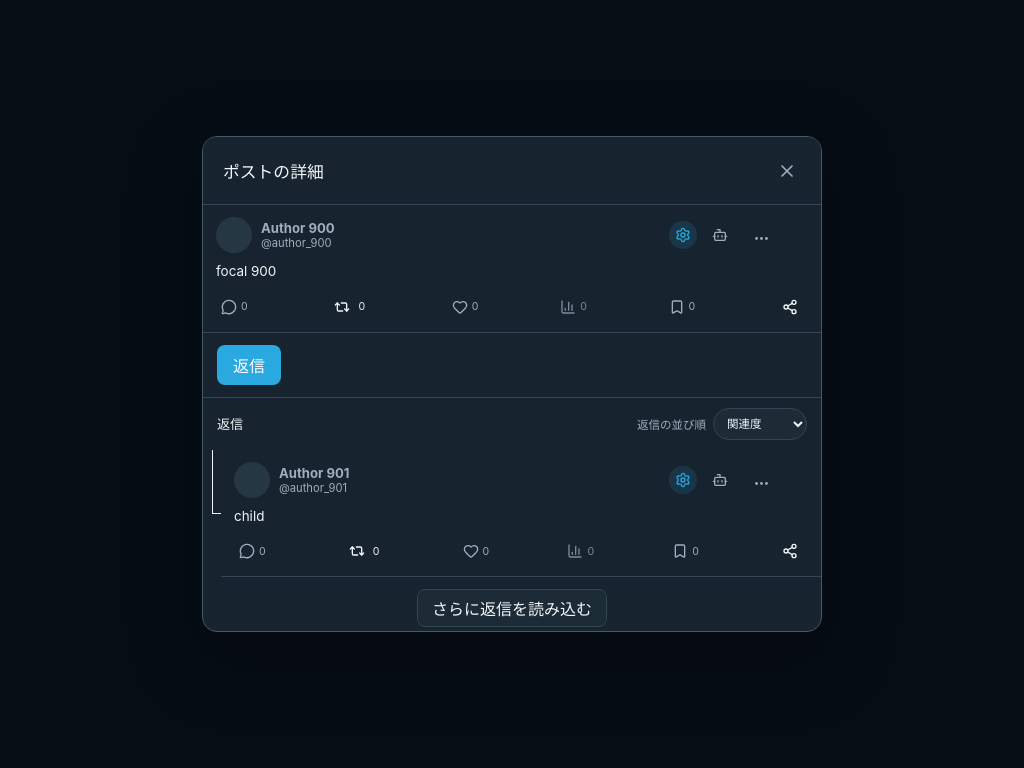
Test case: resumes an unfinished reply page after navigating away and Back
Check: the text "child" is shown, box 234,508 -> 264,524
Click the button "さらに返信を読み込む": point(512, 608) 417,589 -> 607,627
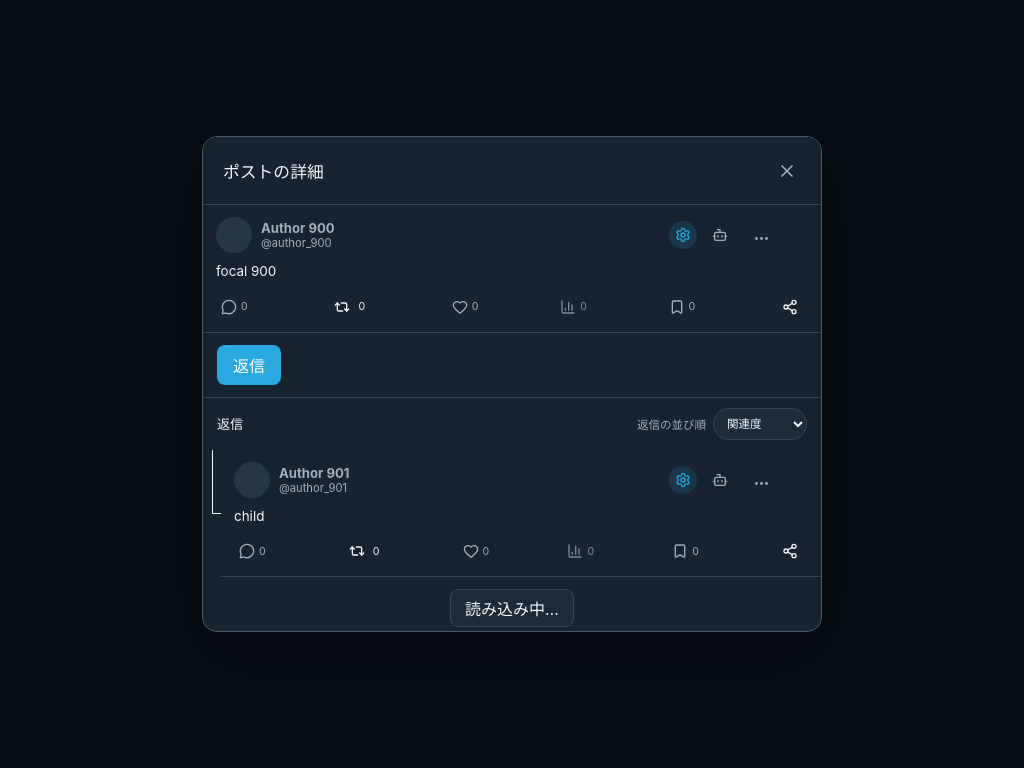
Click the text "child": point(249, 516) 234,508 -> 264,524
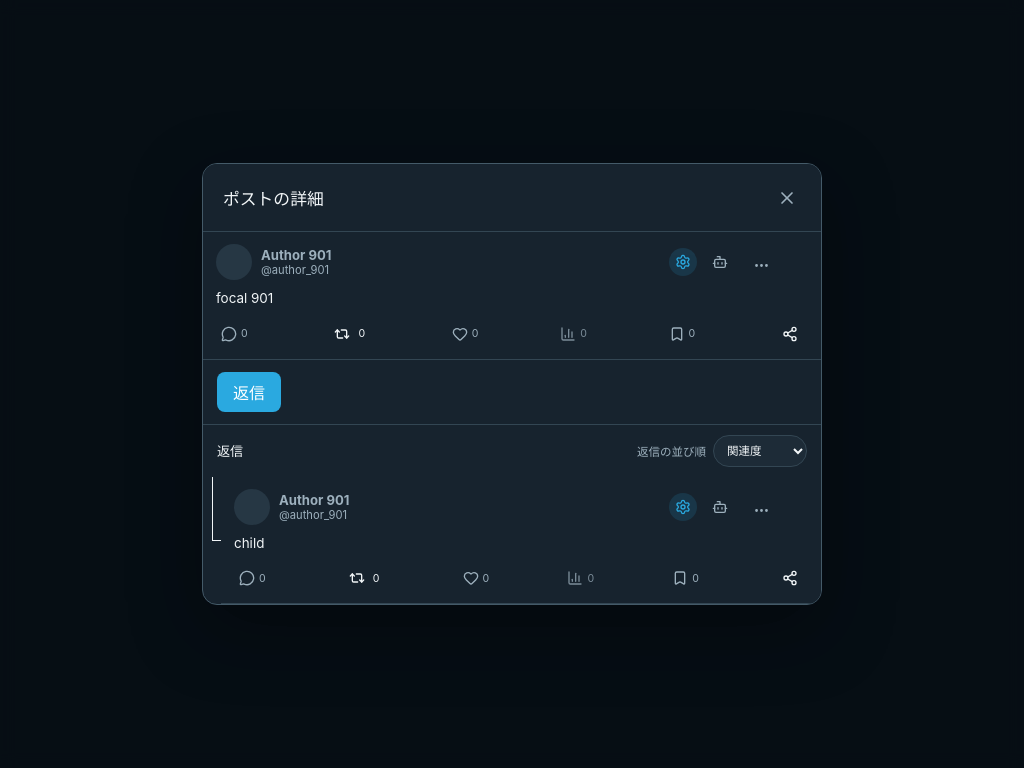
Check: the text "focal 901" is shown, box 216,290 -> 273,306
Press Escape
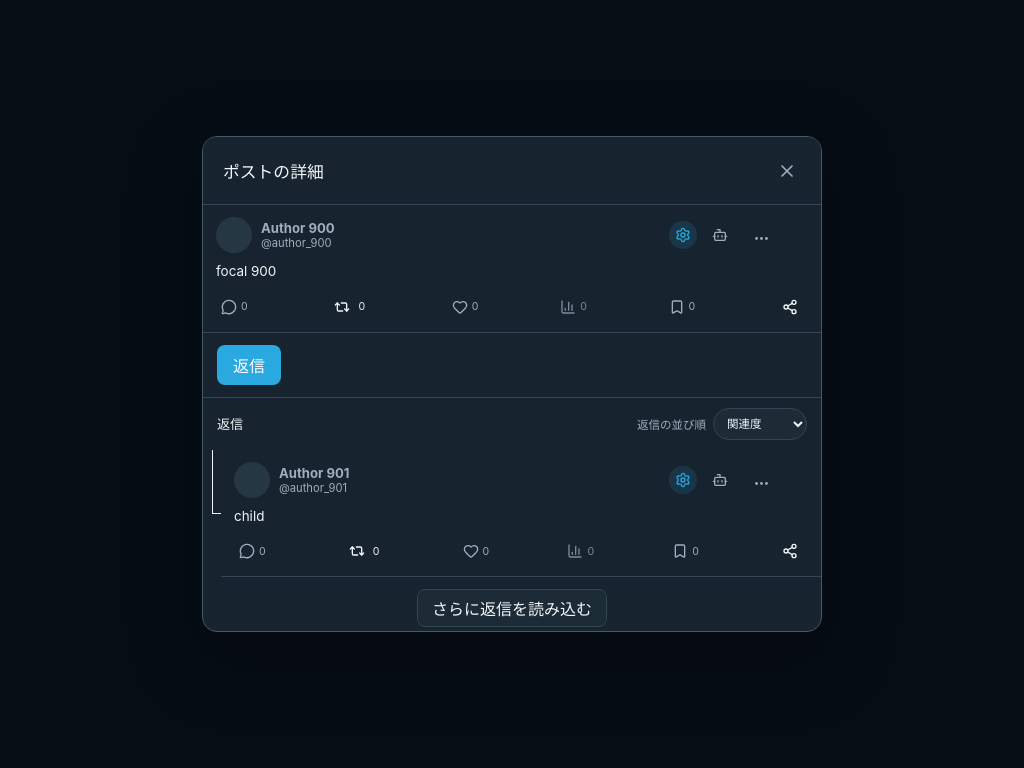
Check: the text "focal 900" is shown, box 216,263 -> 276,279
Click the button "さらに返信を読み込む": point(512, 608) 417,589 -> 607,627
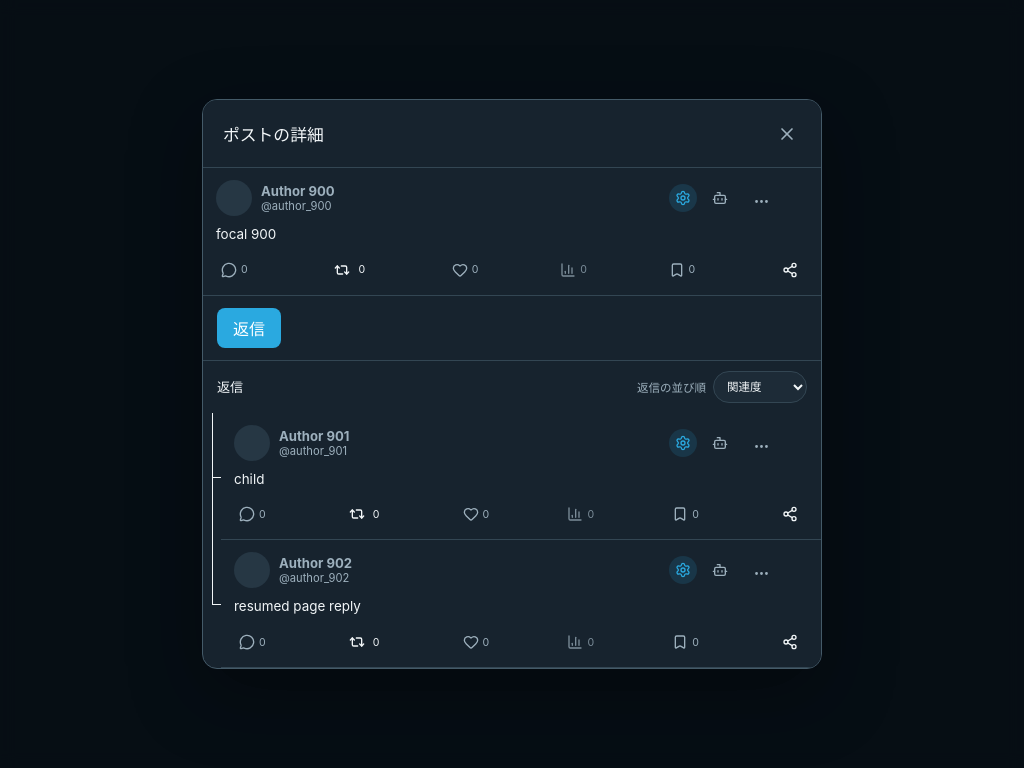
Check: the text "resumed page reply" is shown, box 234,598 -> 361,614
